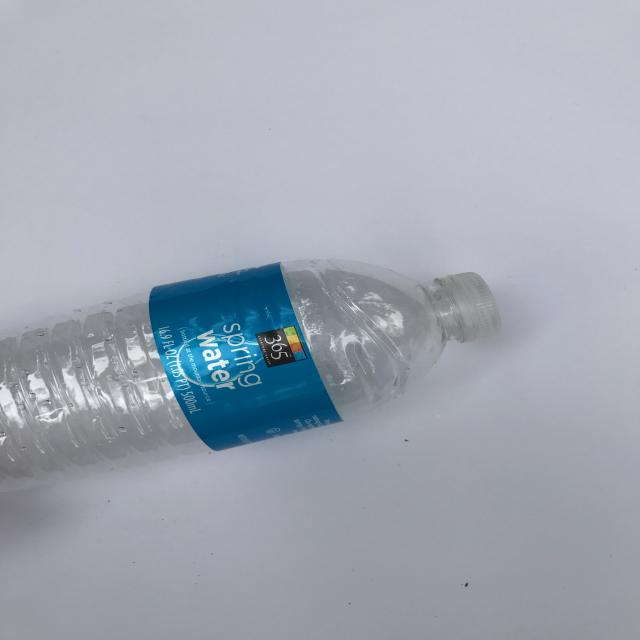Plastic: (0, 235, 508, 528)
